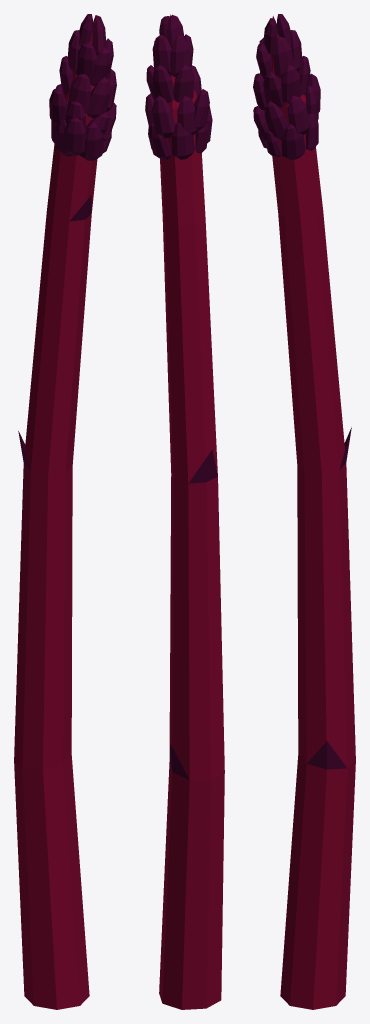
The model's file is Asparagus_01.fbx.
3 views of the same model, side by side, from view 1: azimuth 90°, elevation 25°; view 2: azimuth 210°, elevation 25°; view 3: azimuth 270°, elevation 25° (orthographic).
Parts seen in each view (by area): view 1: Asparagus_01; view 2: Asparagus_01; view 3: Asparagus_01.
Part boxes in pixels (bbox=[...]): Asparagus_01: bbox=[14, 14, 116, 1009]; Asparagus_01: bbox=[145, 14, 224, 1009]; Asparagus_01: bbox=[253, 14, 355, 1009].
Bounding box in the file's own units: 0.585 × 9.19 × 0.8736.
